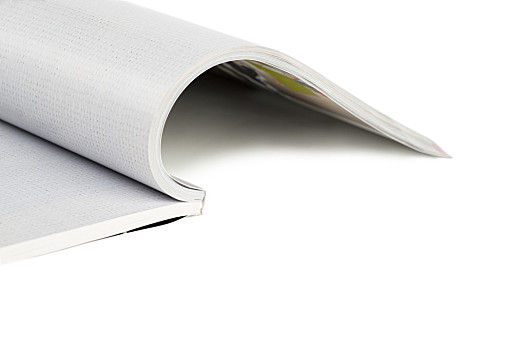book: (2, 2, 454, 261)
